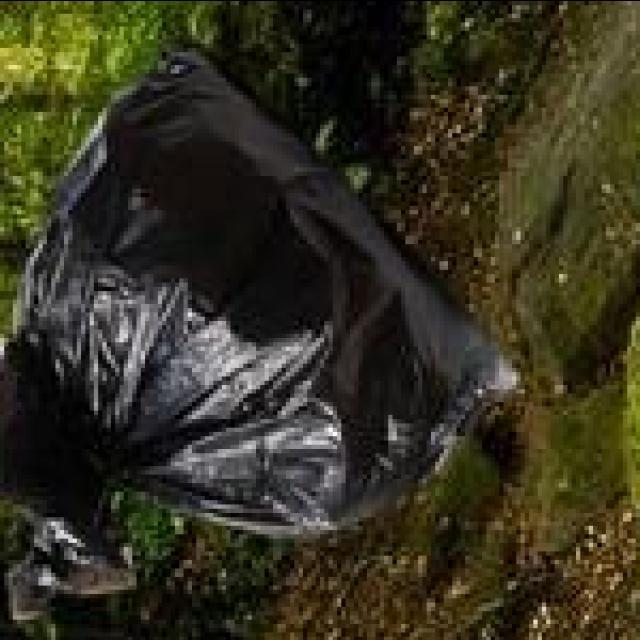Trashbag: (0, 45, 522, 640)
